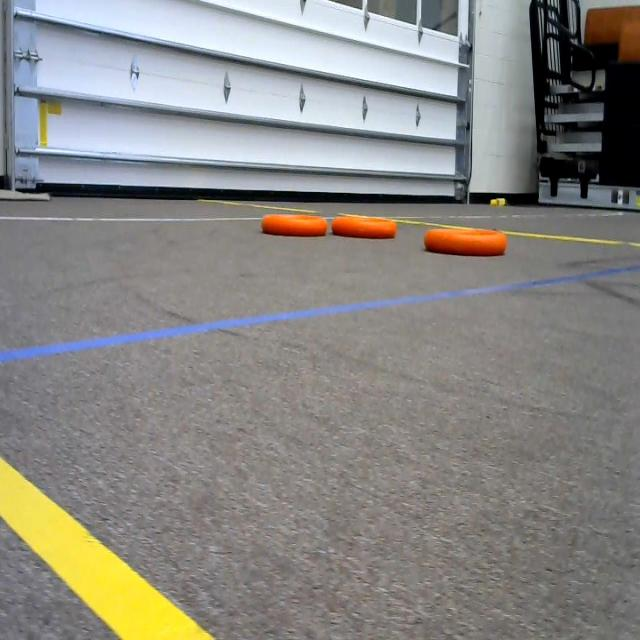note: (256, 194, 328, 250), (327, 203, 406, 250), (422, 220, 512, 261)
